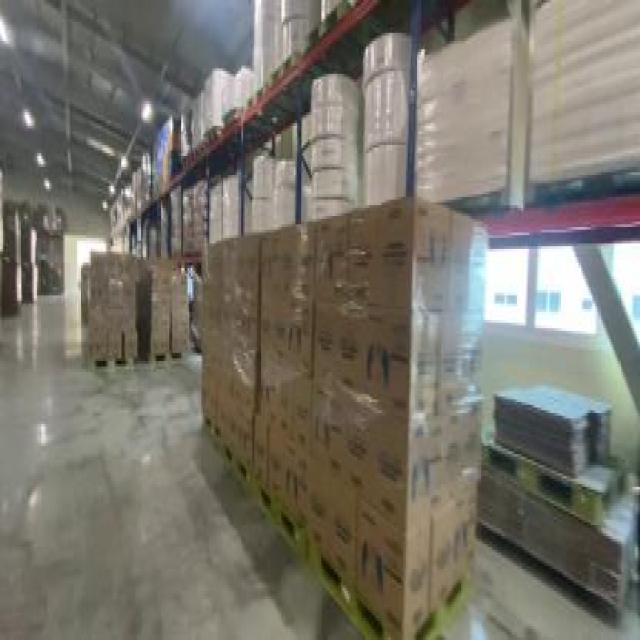box: (197, 216, 478, 637), (482, 383, 626, 621), (77, 243, 191, 375), (1, 186, 64, 309), (151, 112, 191, 175), (172, 180, 203, 252)
white_roll: (528, 5, 638, 197), (414, 30, 520, 208), (357, 32, 411, 210), (304, 71, 362, 227), (246, 145, 302, 227), (198, 57, 250, 132), (206, 175, 243, 243), (251, 2, 278, 88), (280, 3, 317, 49)
